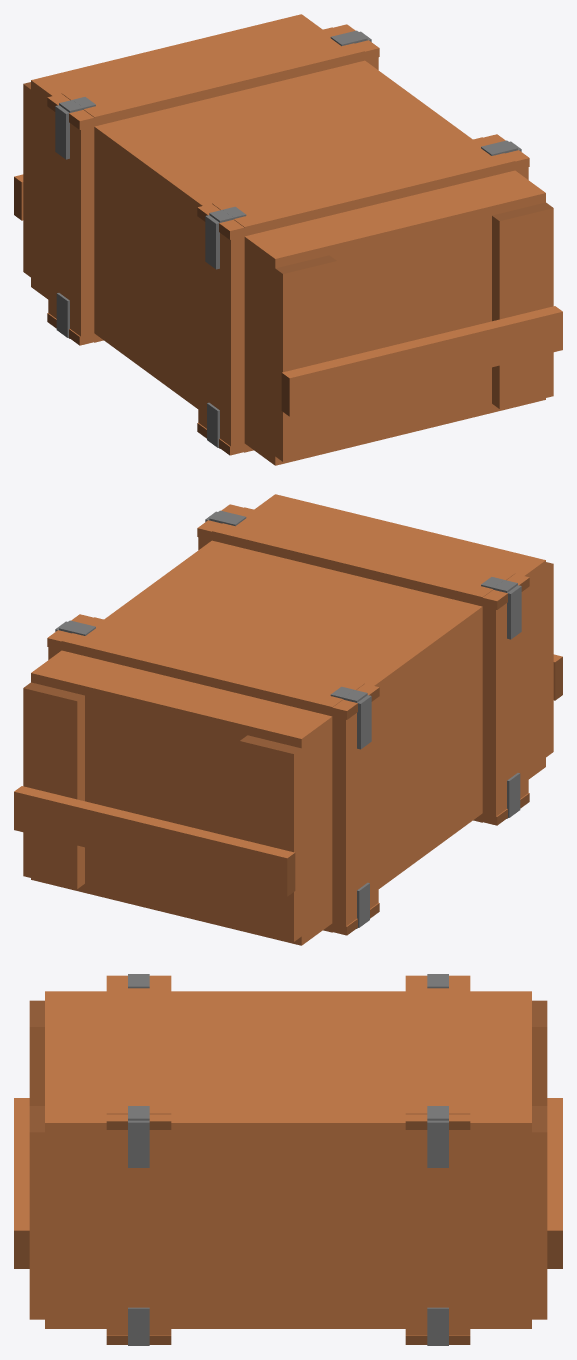
The model's file is WoodBox.fbx.
3 renders of one model, top to bottom at view 1: azimuth 30°, elevation 25°; view 2: azimuth 150°, elevation 25°; view 3: azimuth 270°, elevation 25°, orthographic.
Visible parts, largest first — view 1: Cube; view 2: Cube; view 3: Cube.
Part boxes in pixels (x1,y1,x2,y2): Cube: [14, 14, 562, 465]; Cube: [14, 494, 562, 945]; Cube: [14, 974, 562, 1345].
Bounding box in the file's own units: 226 × 161 × 353.
